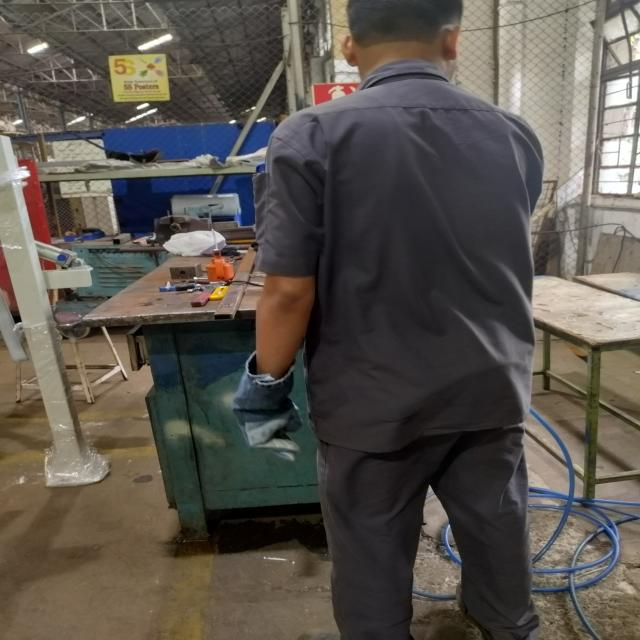Gloves-Detection: (242, 349, 296, 451)
